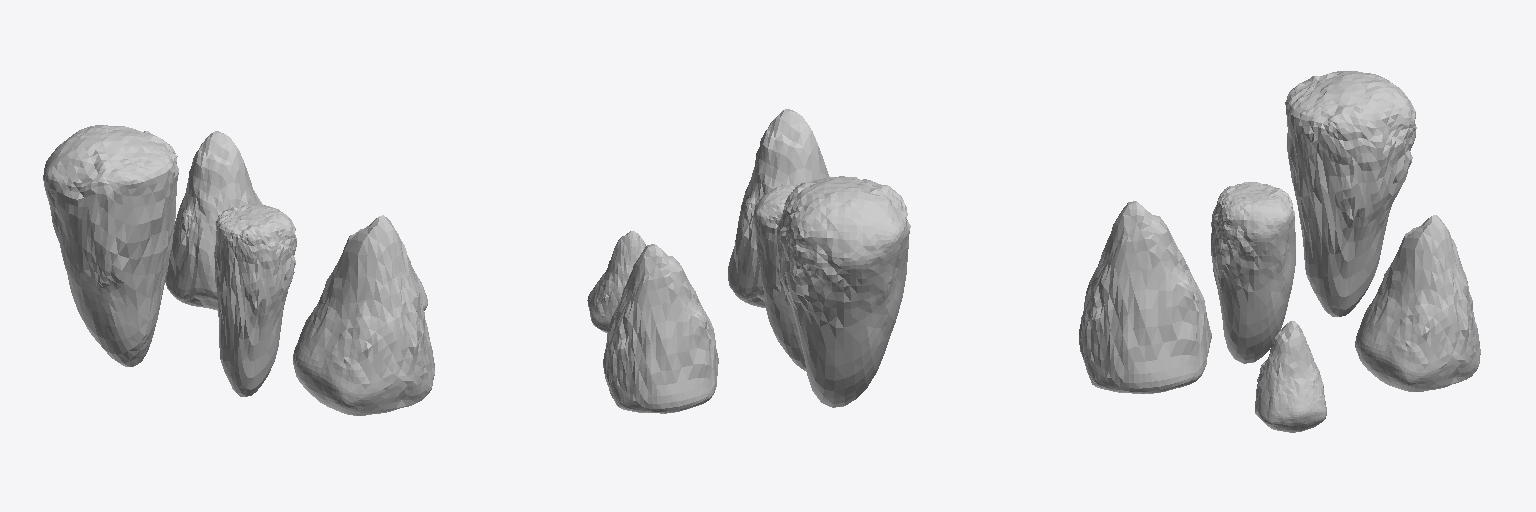
The picture shows the model from 3 angles: view 1: azimuth 30°, elevation 25°; view 2: azimuth 150°, elevation 25°; view 3: azimuth 270°, elevation 25°; orthographic projection.
Visible parts, largest first — view 1: rock_05, rock_01, rock_02, rock_03; view 2: rock_05, rock_03, rock_01, rock_02, rock_04; view 3: rock_05, rock_01, rock_03, rock_02, rock_04.
Part boxes in pixels (left/top/right/bottom): rock_05: left=43, top=125, right=178, bottom=366; rock_01: left=293, top=215, right=434, bottom=415; rock_02: left=214, top=204, right=296, bottom=396; rock_03: left=165, top=131, right=262, bottom=310; rock_05: left=777, top=176, right=910, bottom=407; rock_03: left=603, top=244, right=718, bottom=413; rock_01: left=728, top=109, right=829, bottom=307; rock_02: left=753, top=184, right=806, bottom=371; rock_04: left=587, top=231, right=645, bottom=333; rock_05: left=1285, top=71, right=1416, bottom=316; rock_01: left=1079, top=201, right=1211, bottom=393; rock_03: left=1355, top=215, right=1480, bottom=391; rock_02: left=1211, top=182, right=1295, bottom=363; rock_04: left=1255, top=321, right=1326, bottom=432.
Size of the model in its own units: 5.25 by 3.55 by 5.36.